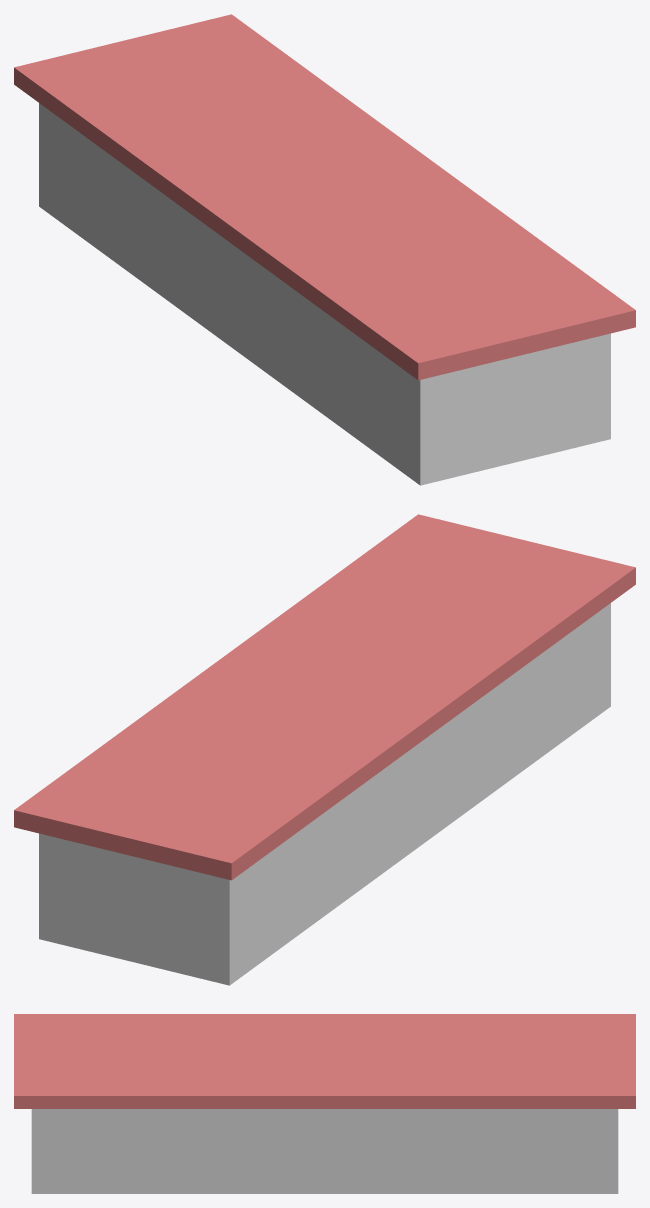
File: checkoutcounter.fbx
3 renders of one model, top to bottom at view 1: azimuth 30°, elevation 25°; view 2: azimuth 150°, elevation 25°; view 3: azimuth 270°, elevation 25°, orthographic. The views are drawn at different scales.
Visible parts, largest first — view 1: pCube134; view 2: pCube134; view 3: pCube134.
Boxes of the visible parts, left/top/right/bottom form: pCube134: left=14, top=14, right=635, bottom=485; pCube134: left=14, top=514, right=635, bottom=985; pCube134: left=14, top=1014, right=635, bottom=1193.
Bounding box in the file's own units: 313 × 184 × 1006.
